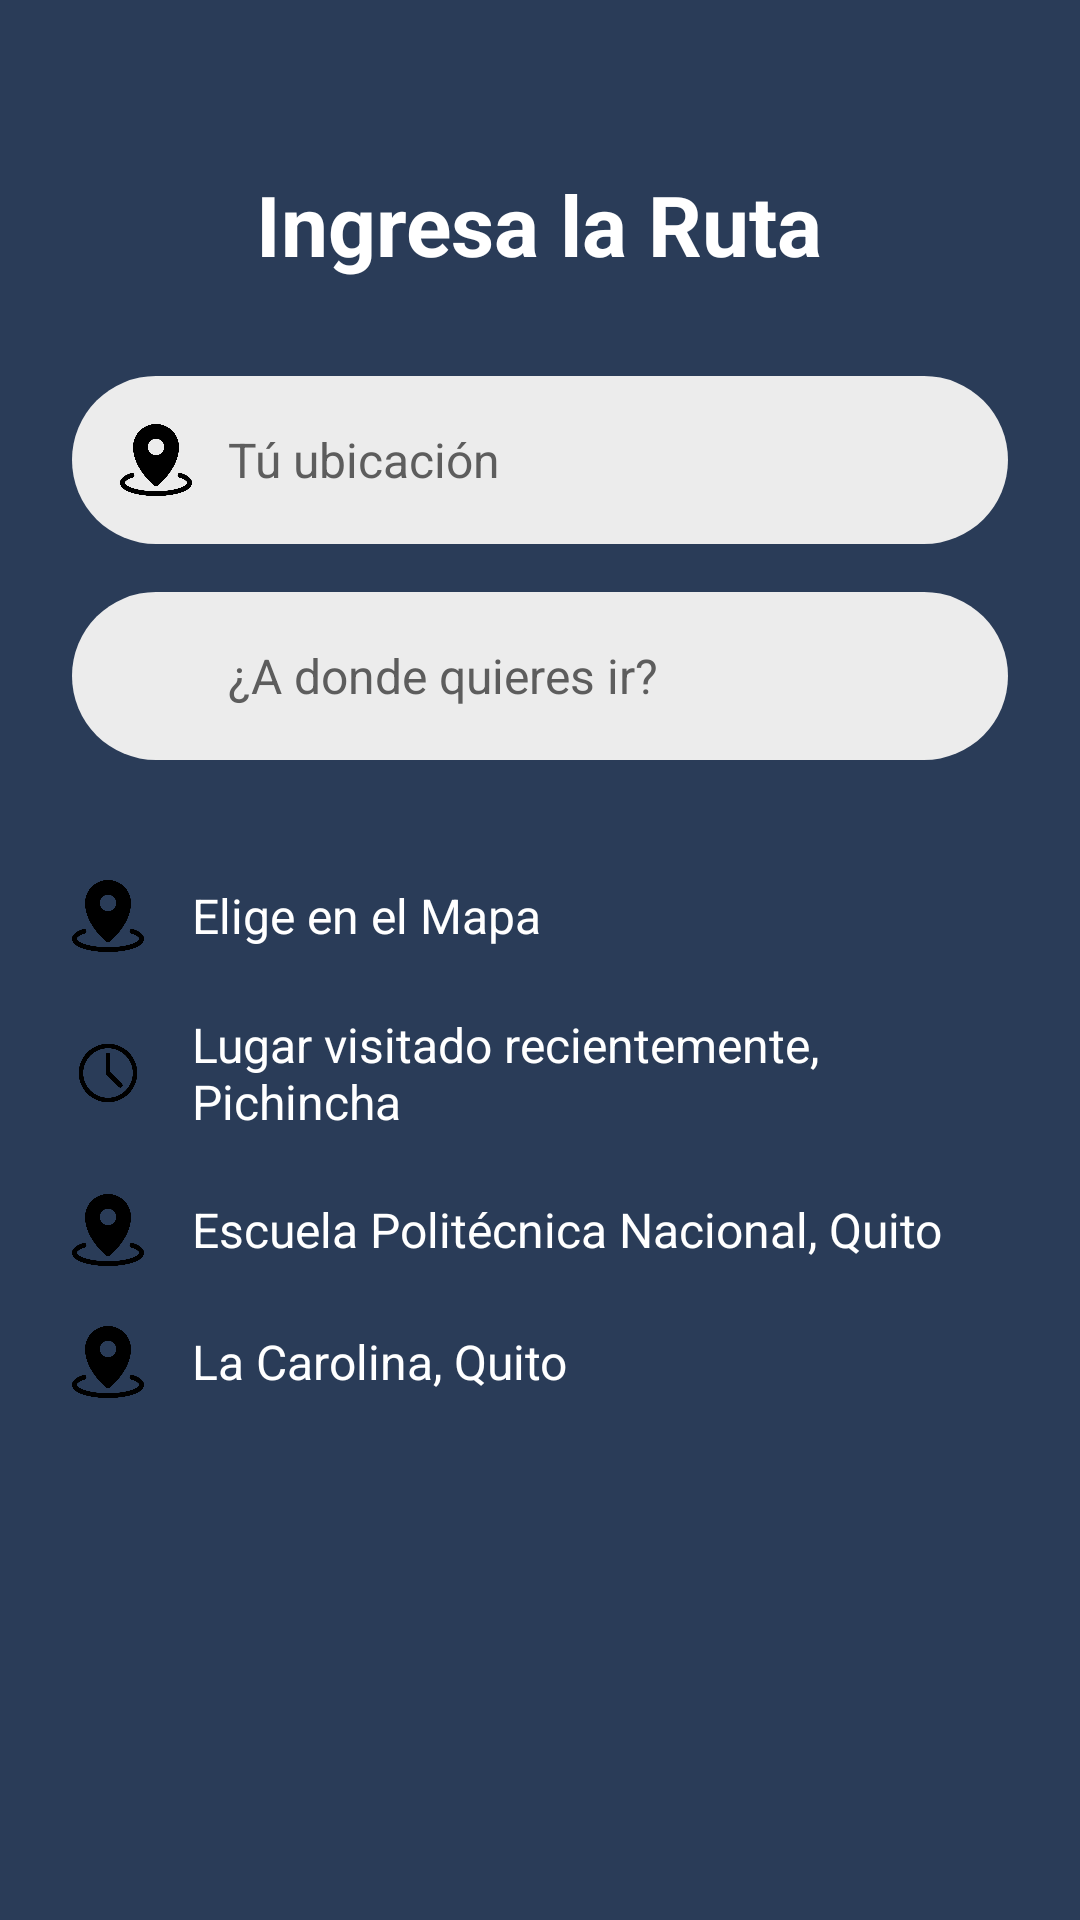

Named icons in this screenshot (1080 x 1920) and their centers, [x,y]:
pin: [156,460], [108,916], [108,1230], [108,1362]
reloj: [108,1073]
